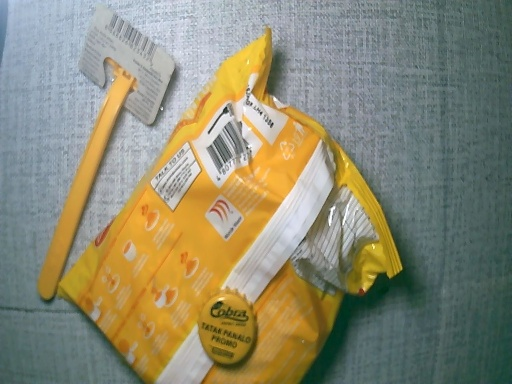metal: (201, 287, 255, 372)
plastic: (68, 25, 402, 384)
trash: (36, 97, 124, 303), (74, 5, 168, 129)
